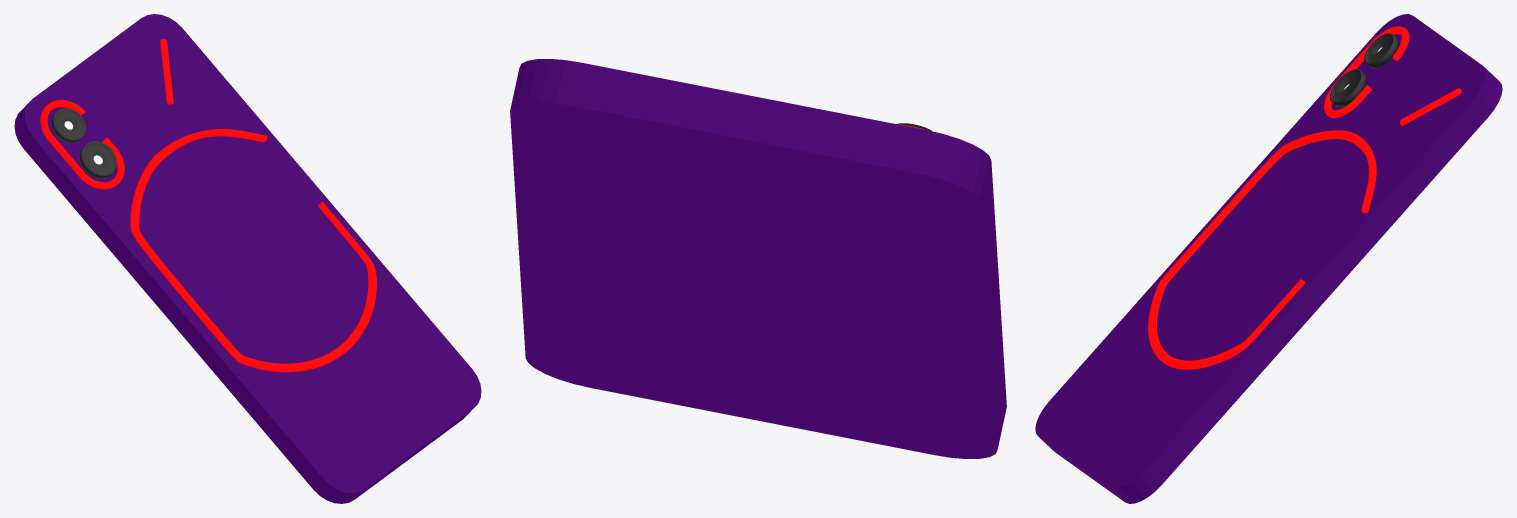
The model's file is nothing.glb.
3 renders of one model, left to right at view 1: azimuth 30°, elevation 25°; view 2: azimuth 150°, elevation 25°; view 3: azimuth 270°, elevation 25°, orthographic. The views are drawn at different scales.
Visible parts, largest first — view 1: Cube; view 2: Cube; view 3: Cube.
Boxes of the visible parts, x1,y1,x2,y2 form: Cube: (14, 14, 481, 503); Cube: (510, 59, 1006, 458); Cube: (1035, 14, 1502, 503).
Bounding box in the file's own units: 18.49 × 17.9 × 20.07.
